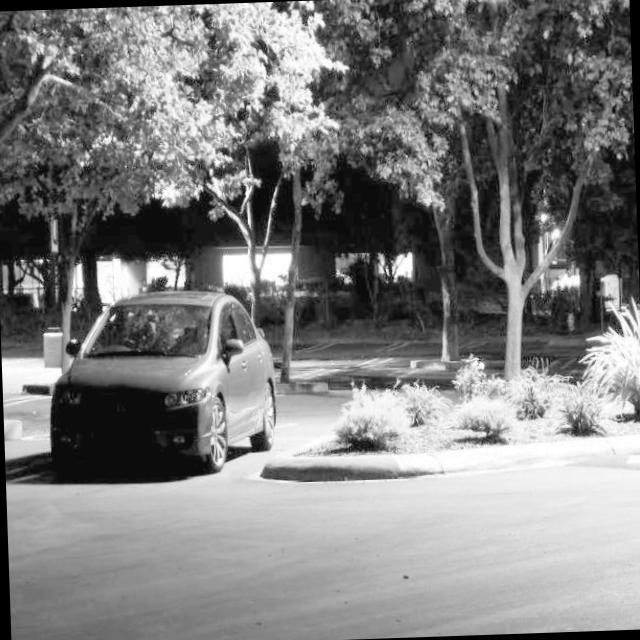Car: (22, 267, 296, 503)
Tree: (442, 34, 577, 384), (220, 80, 300, 330), (38, 171, 96, 376)
